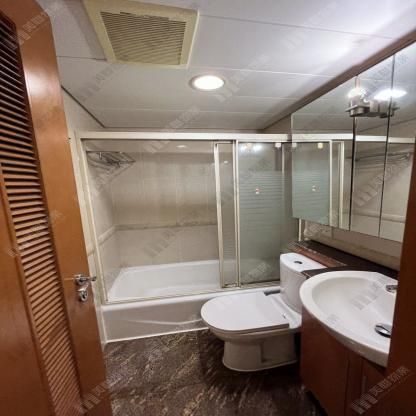Bathtub: (100, 258, 280, 343)
Toilet: (200, 252, 327, 371)
Toilet Sink: (298, 270, 397, 364)
